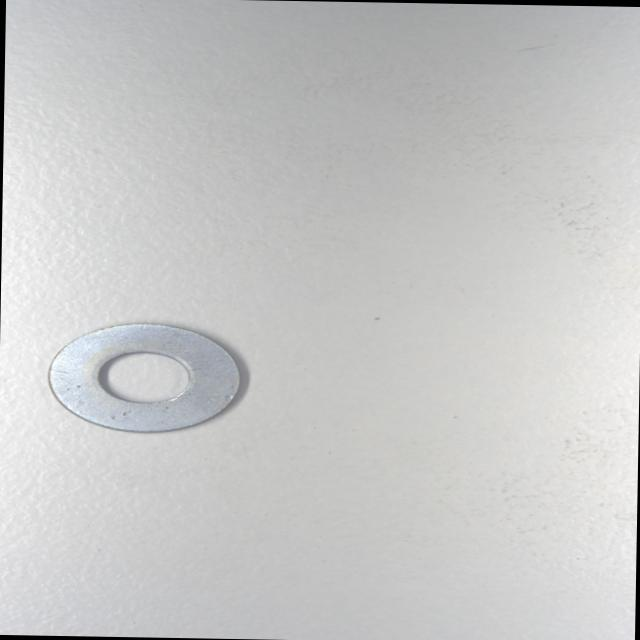washer: (44, 318, 243, 433)
